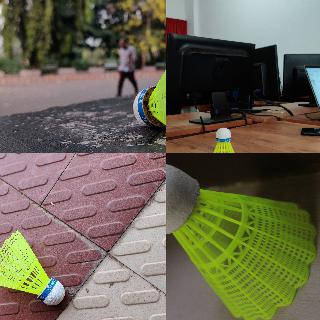shuttlecock: (166, 163, 317, 319), (0, 229, 64, 305), (133, 23, 165, 152), (206, 126, 243, 152)
